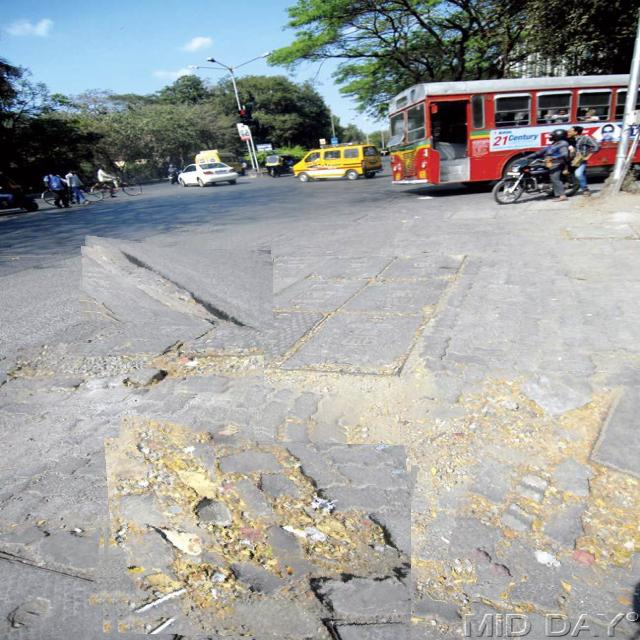Pothole: (95, 425, 411, 640), (455, 373, 640, 585), (79, 241, 273, 326), (7, 340, 264, 400)
